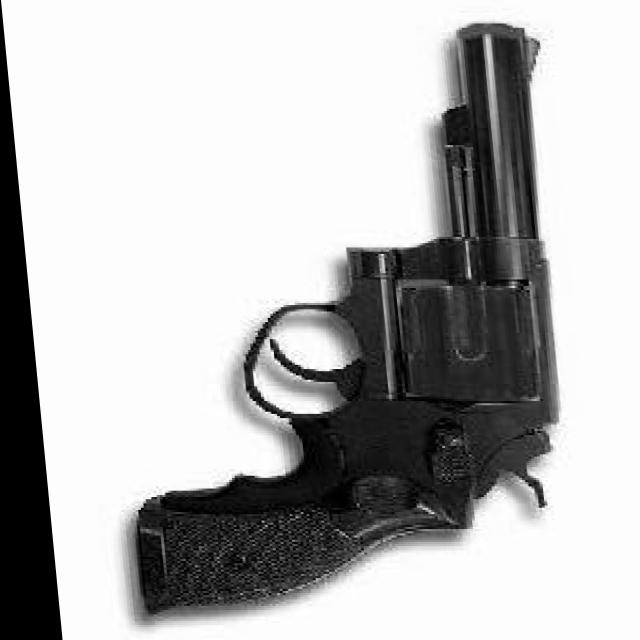handgun: (82, 27, 590, 618)
